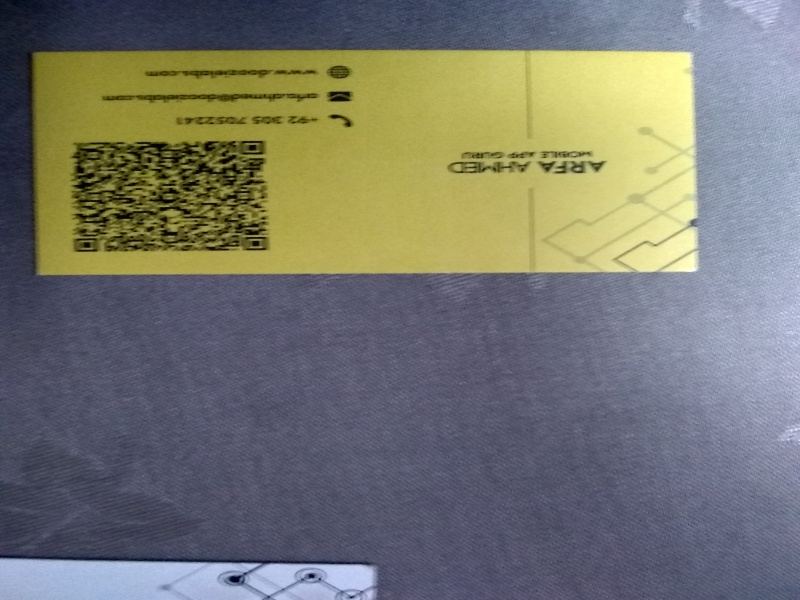front: (32, 45, 702, 274)
